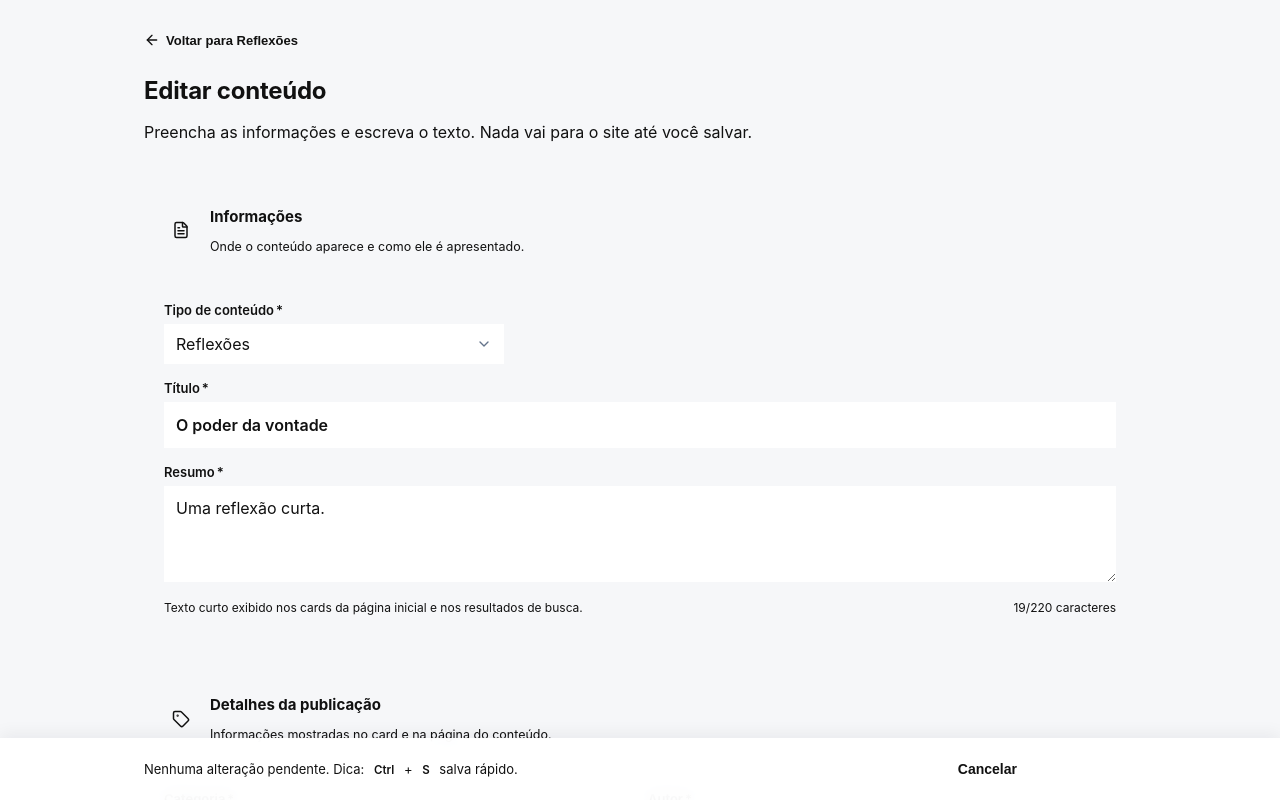
it: ArticleForm — alterações, descarte e salvamento › mudança de tipo › avisa que o link antigo deixa de funcionar ao mover o item de tipo
Check: the text "o link antigo" is not shown
Select "Notícias" in the dropdown labelled "Tipo de conteúdo*": (334, 344) top-left (164, 324), bottom-right (504, 364)
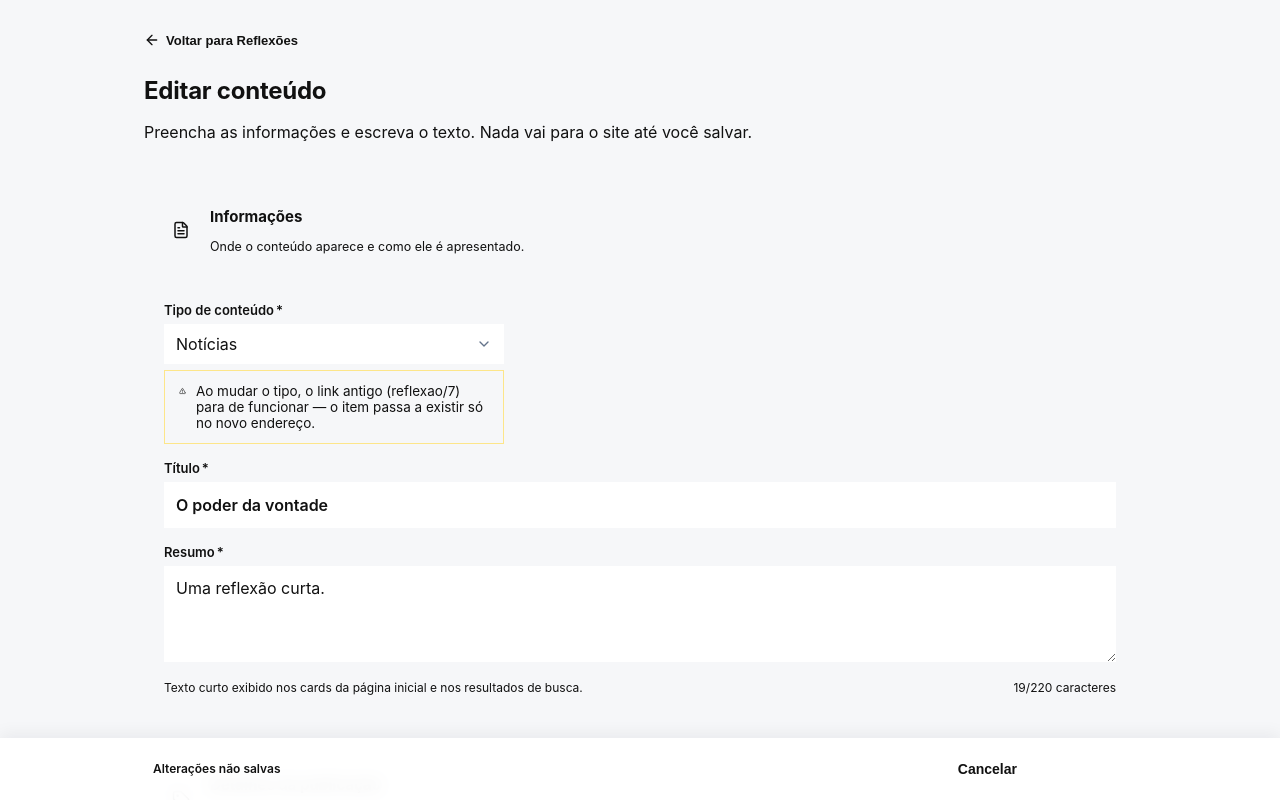
Check: the text "o link antigo (reflexao/7)" is shown, box top-left (196, 383), bottom-right (489, 431)
